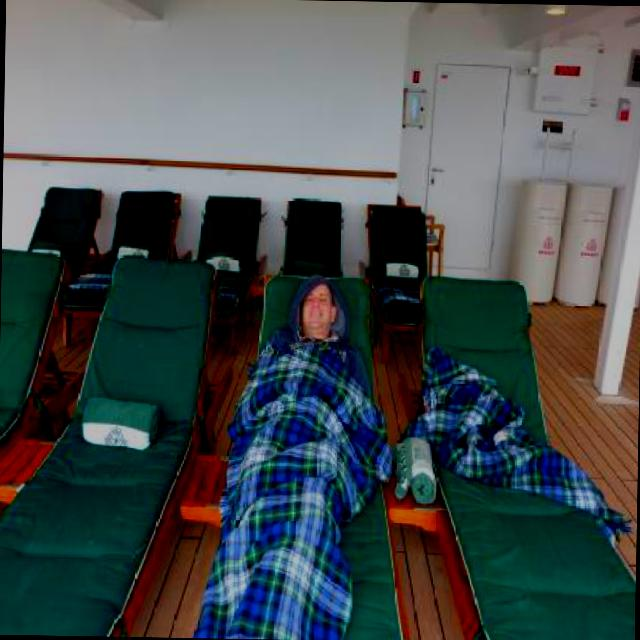Person: (219, 242, 383, 625)
